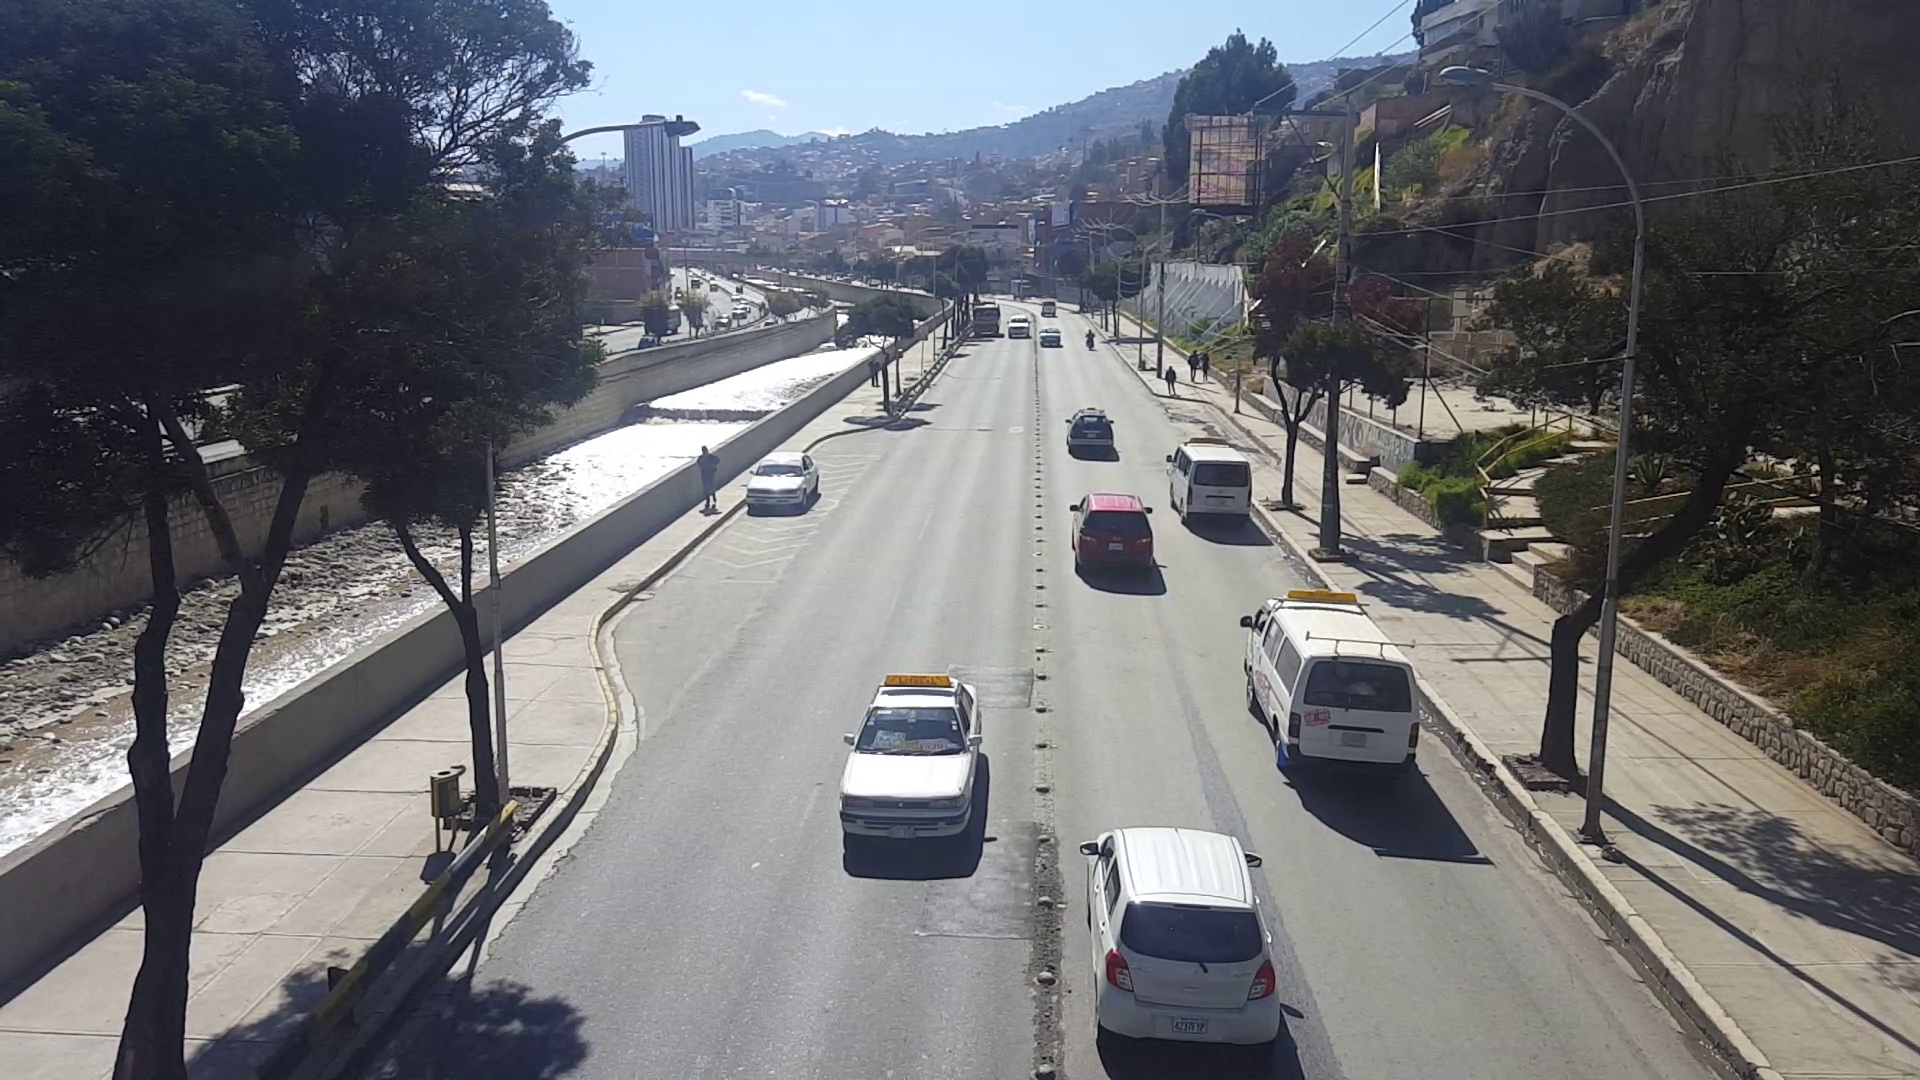automovil: (1080, 825, 1295, 1055), (1065, 491, 1160, 575)
minibus: (1238, 589, 1419, 779), (1164, 434, 1255, 522)
taxitrufi: (833, 671, 986, 837), (1065, 402, 1116, 458)
